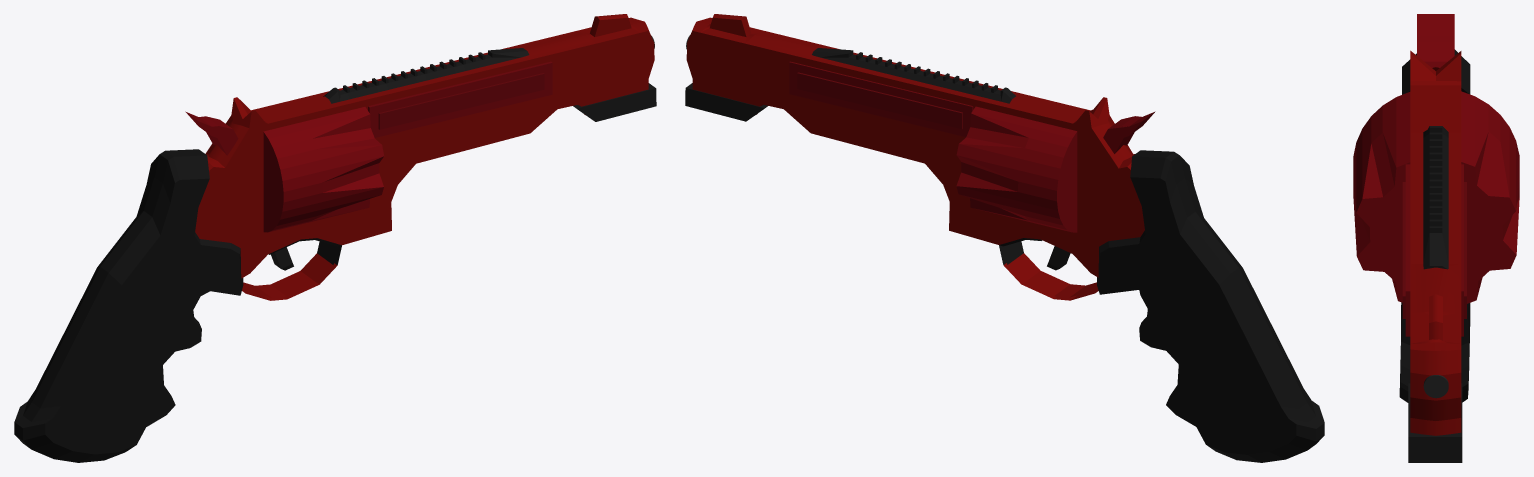
File: revolver FINAL.fbx
3 views of the same model, side by side, from view 1: azimuth 30°, elevation 25°; view 2: azimuth 150°, elevation 25°; view 3: azimuth 270°, elevation 25° (orthographic). The views are drawn at different scales.
Visible parts, largest first — view 1: Barrel, Handle, Cylinder, Cube.001, Cube.002, Cube.003, Cube; view 2: Barrel, Handle, Cylinder, Cube.001, Cube.002, Cube.003, Cube; view 3: Barrel, Cylinder, Handle, Cube, Cube.003, Cube.001, Cube.002, Cylinder.001.
Boxes of the visible parts, left/top/right/bottom form: Barrel: left=195, top=14, right=654, bottom=300; Handle: left=14, top=149, right=243, bottom=462; Cylinder: left=263, top=107, right=383, bottom=232; Cube.001: left=368, top=61, right=552, bottom=137; Cube.002: left=378, top=73, right=544, bottom=129; Cube.003: left=573, top=83, right=656, bottom=121; Cube: left=185, top=111, right=238, bottom=155; Barrel: left=686, top=14, right=1144, bottom=300; Handle: left=1097, top=150, right=1324, bottom=462; Cylinder: left=956, top=106, right=1077, bottom=232; Cube.001: left=789, top=61, right=973, bottom=136; Cube.002: left=797, top=72, right=962, bottom=129; Cube.003: left=685, top=83, right=767, bottom=121; Cube: left=1103, top=111, right=1155, bottom=153; Barrel: left=1410, top=50, right=1461, bottom=435; Cylinder: left=1353, top=91, right=1519, bottom=303; Handle: left=1399, top=49, right=1470, bottom=402; Cube: left=1417, top=14, right=1454, bottom=67; Cube.003: left=1408, top=383, right=1462, bottom=462; Cube.001: left=1405, top=164, right=1463, bottom=336; Cube.002: left=1402, top=182, right=1466, bottom=318; Cylinder.001: left=1423, top=375, right=1448, bottom=398.
Bounding box in the file's own units: 496 × 240 × 79.7.
